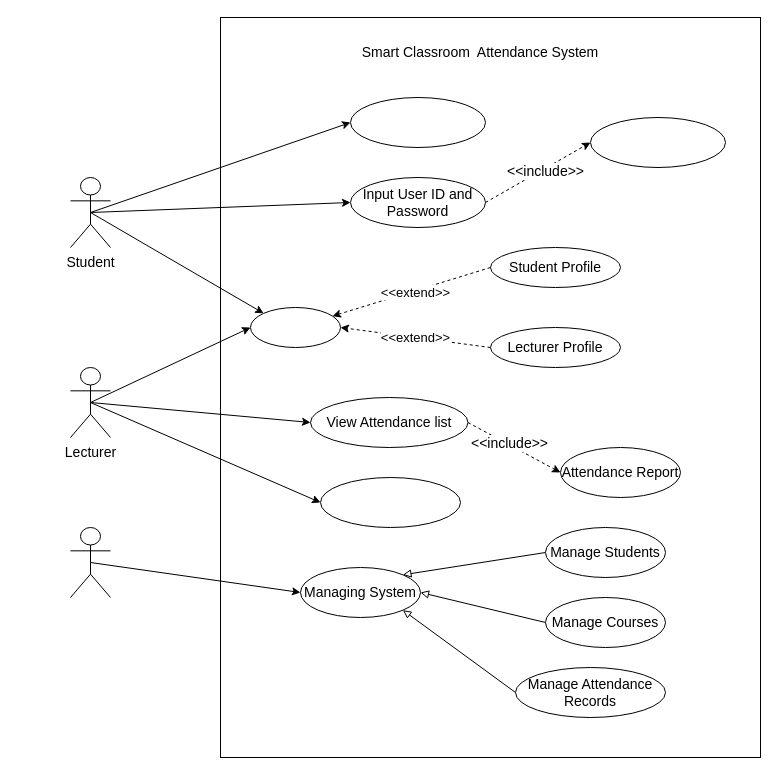
Image size: 778x775. Some labels were removed from this diagram. Each missing label, with the centre of its shape:
"Academic Administrator" belongs at point 90,562.
"Login" belongs at point 295,327.
"provide attendance password" belongs at point 390,502.
"Record Attendance" belongs at point 658,142.
"View Attendance History" belongs at point 418,122.
